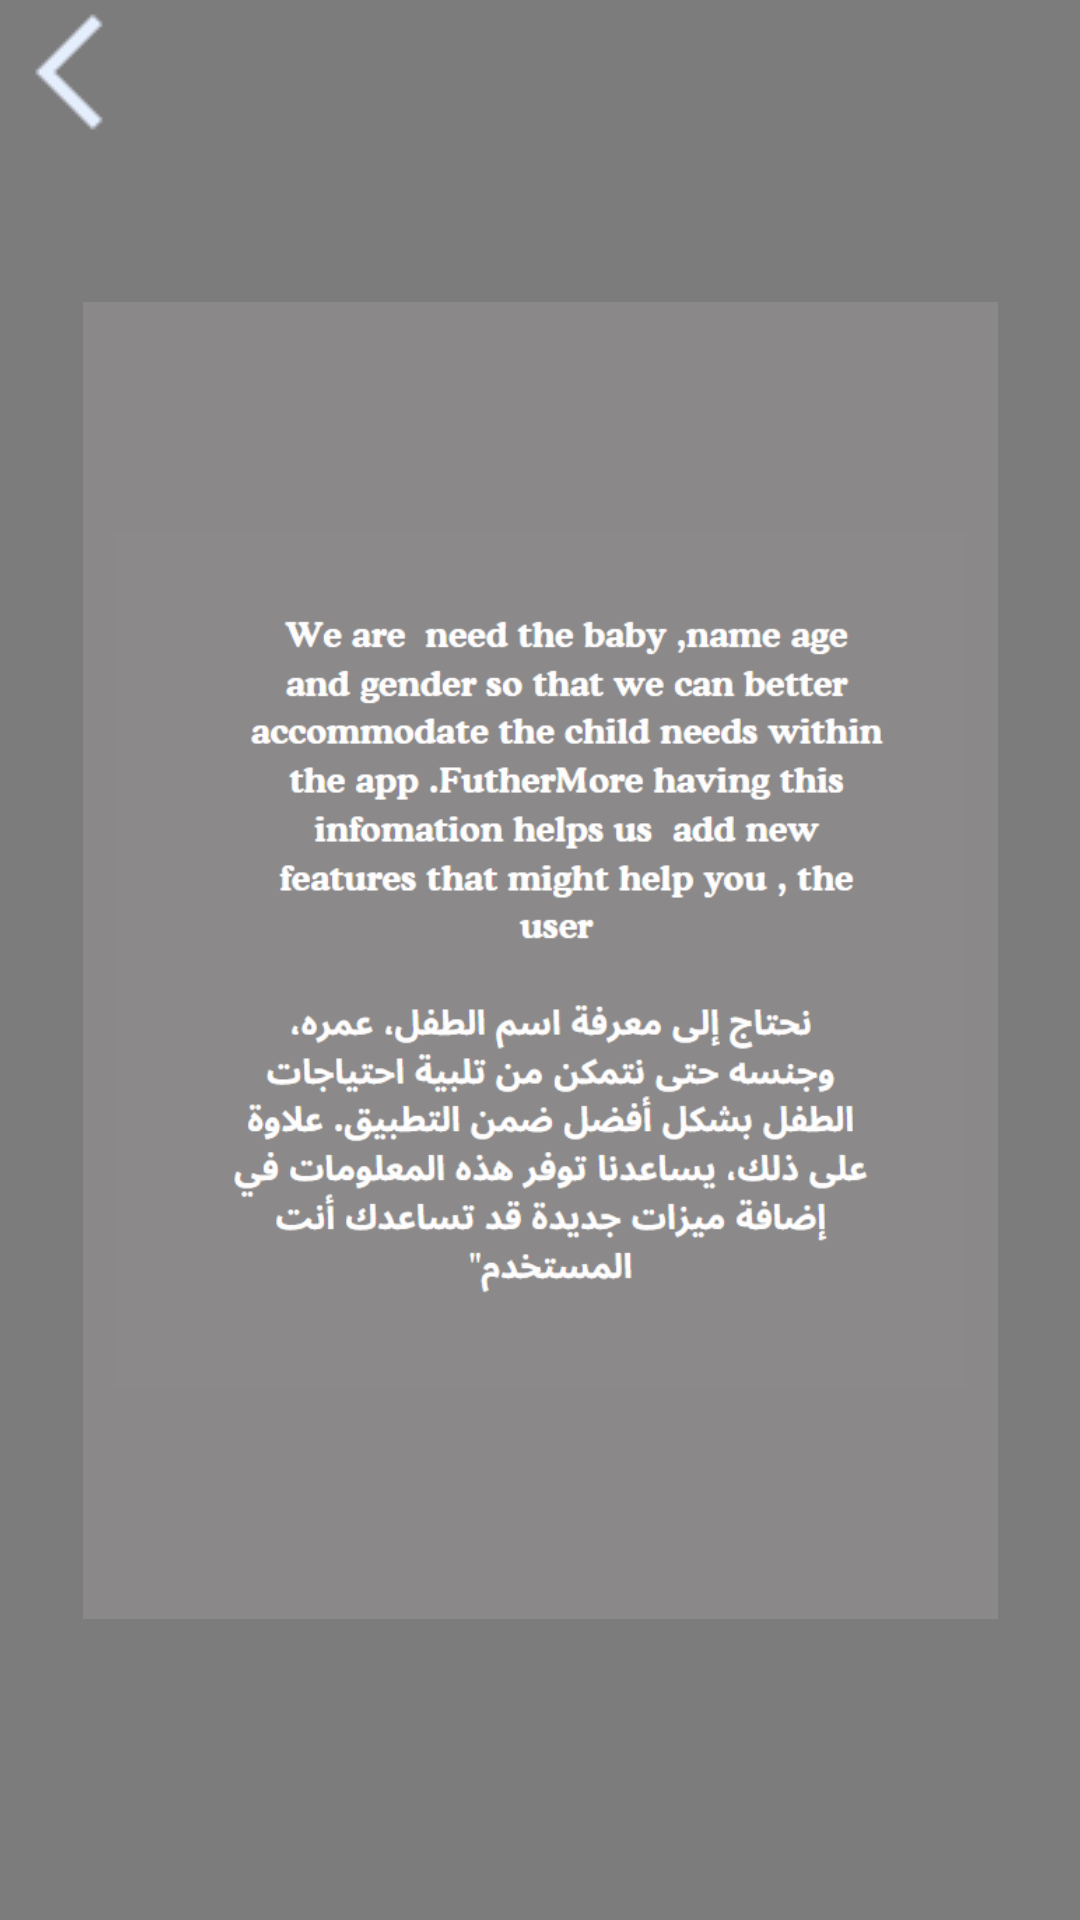

Icon bounding boxes for this 1080px×1920px phone screenshot, format region(x1, y1, x2, y2):
back: region(36, 14, 103, 130)
